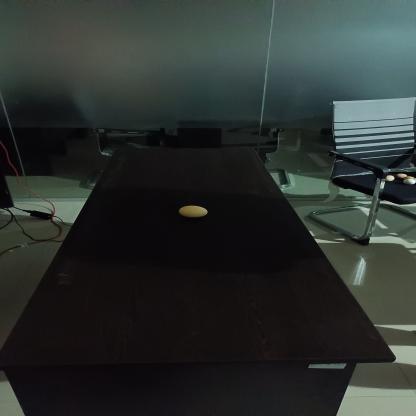egg: (179, 204, 207, 219)
